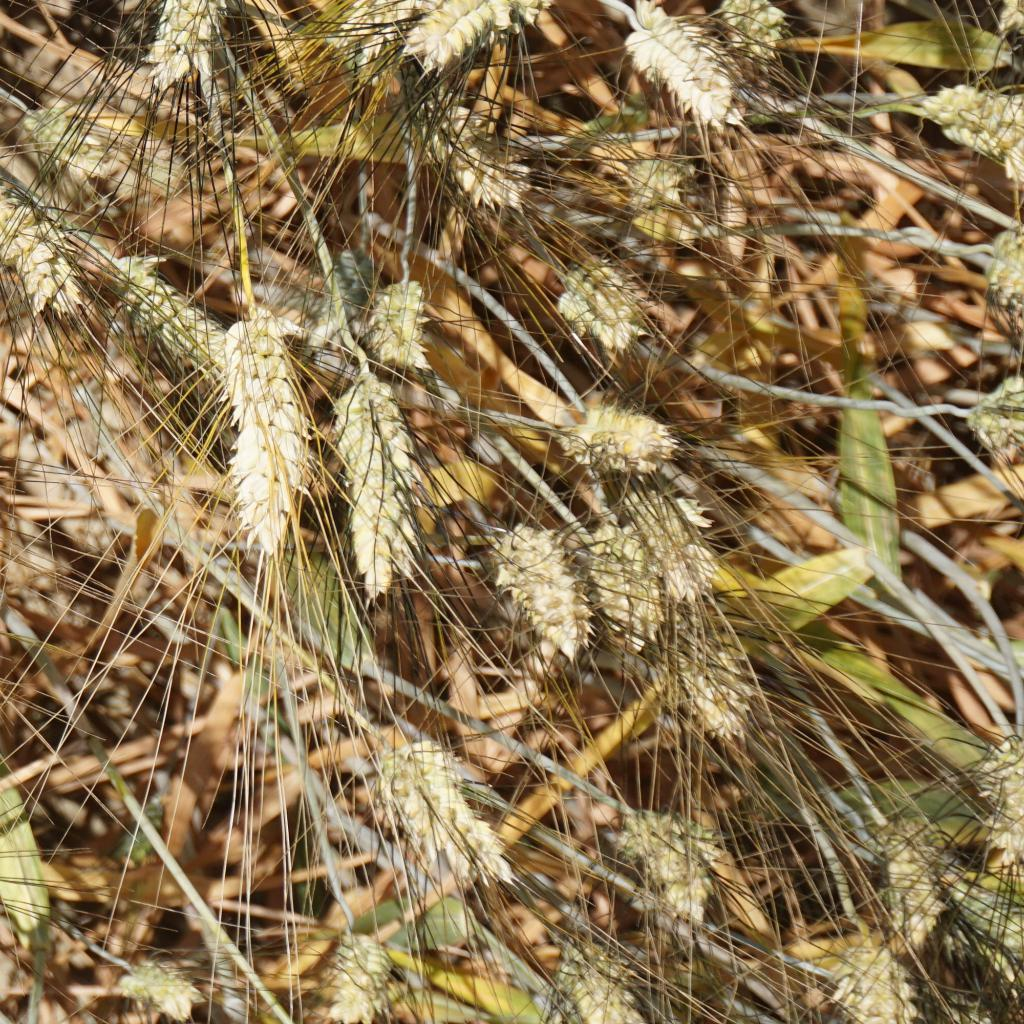0-0: (222, 303, 318, 551), (334, 370, 441, 588), (376, 734, 517, 889), (17, 90, 161, 206), (492, 516, 600, 663), (128, 273, 234, 405), (545, 395, 689, 486), (584, 518, 675, 661), (635, 0, 734, 123), (297, 919, 408, 1024), (624, 799, 720, 919), (0, 159, 78, 305), (433, 102, 525, 214), (640, 494, 722, 602), (555, 260, 644, 356), (417, 0, 539, 69), (143, 0, 246, 76), (931, 88, 1024, 172), (669, 635, 756, 722), (882, 830, 953, 933), (968, 734, 1024, 864), (104, 943, 206, 1014), (366, 277, 439, 374), (840, 925, 911, 1024), (547, 943, 637, 1021), (622, 141, 695, 222), (961, 366, 1024, 457), (710, 0, 789, 53), (366, 0, 478, 27)
